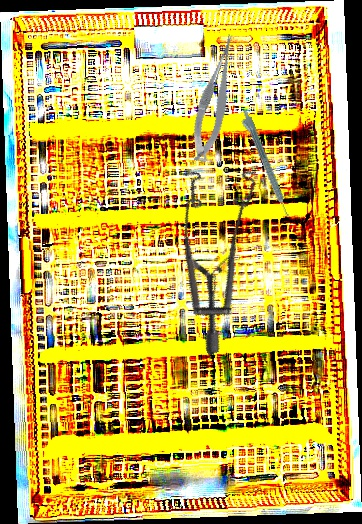Handpiece: (237, 108, 291, 220)
Micro Scissor: (180, 31, 252, 166)
Speculum: (134, 145, 318, 357)
